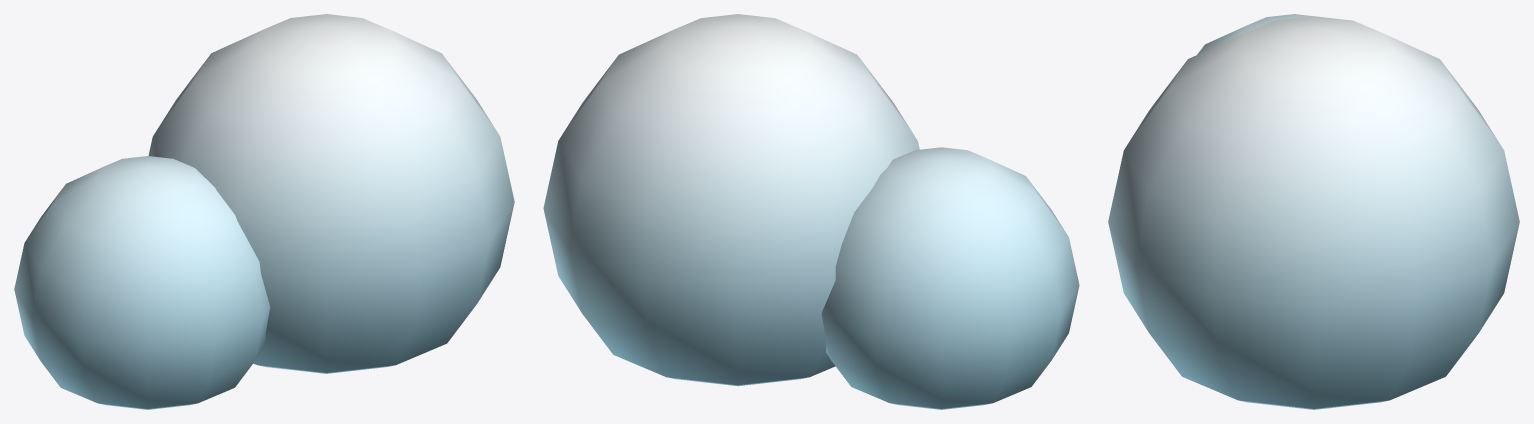
Rendered from Cloud_03.fbx.
3 views of the same model, side by side, from view 1: azimuth 30°, elevation 25°; view 2: azimuth 150°, elevation 25°; view 3: azimuth 270°, elevation 25° (orthographic). The views are drawn at different scales.
Parts seen in each view (by area): view 1: Cloud_03; view 2: Cloud_03; view 3: Cloud_03.
Part boxes in pixels (x1,y1,x2,y2): Cloud_03: [14, 14, 514, 409]; Cloud_03: [543, 14, 1079, 409]; Cloud_03: [1108, 14, 1519, 409].
Size of the model in its own units: 286 by 171 by 200.
